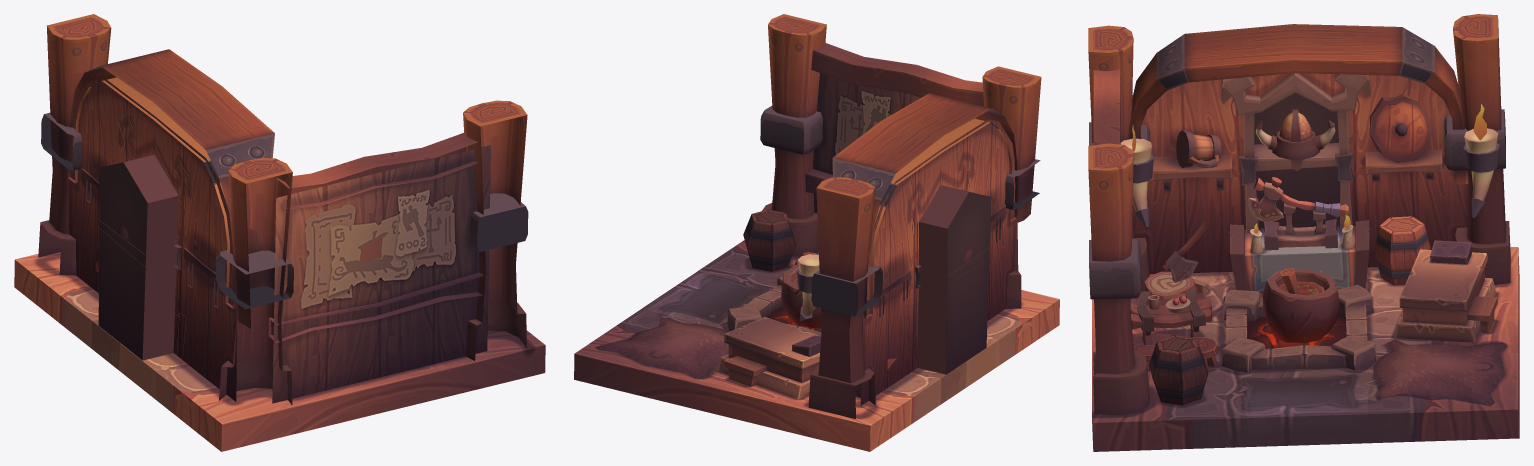
The model's file is new_viking.obj.
3 renders of one model, left to right at view 1: azimuth 30°, elevation 25°; view 2: azimuth 150°, elevation 25°; view 3: azimuth 270°, elevation 25°, orthographic. The views are drawn at different scales.
Parts seen in each view (by area): view 1: mesh_all1_Texture1_0; view 2: mesh_all1_Texture1_0; view 3: mesh_all1_Texture1_0.
Boxes of the visible parts, x1=… form: mesh_all1_Texture1_0: x1=14, y1=14, x2=545, y2=451; mesh_all1_Texture1_0: x1=574, y1=14, x2=1059, y2=451; mesh_all1_Texture1_0: x1=1088, y1=14, x2=1519, y2=451.
Size of the model in its own units: 1.33 by 1.08 by 1.48.
